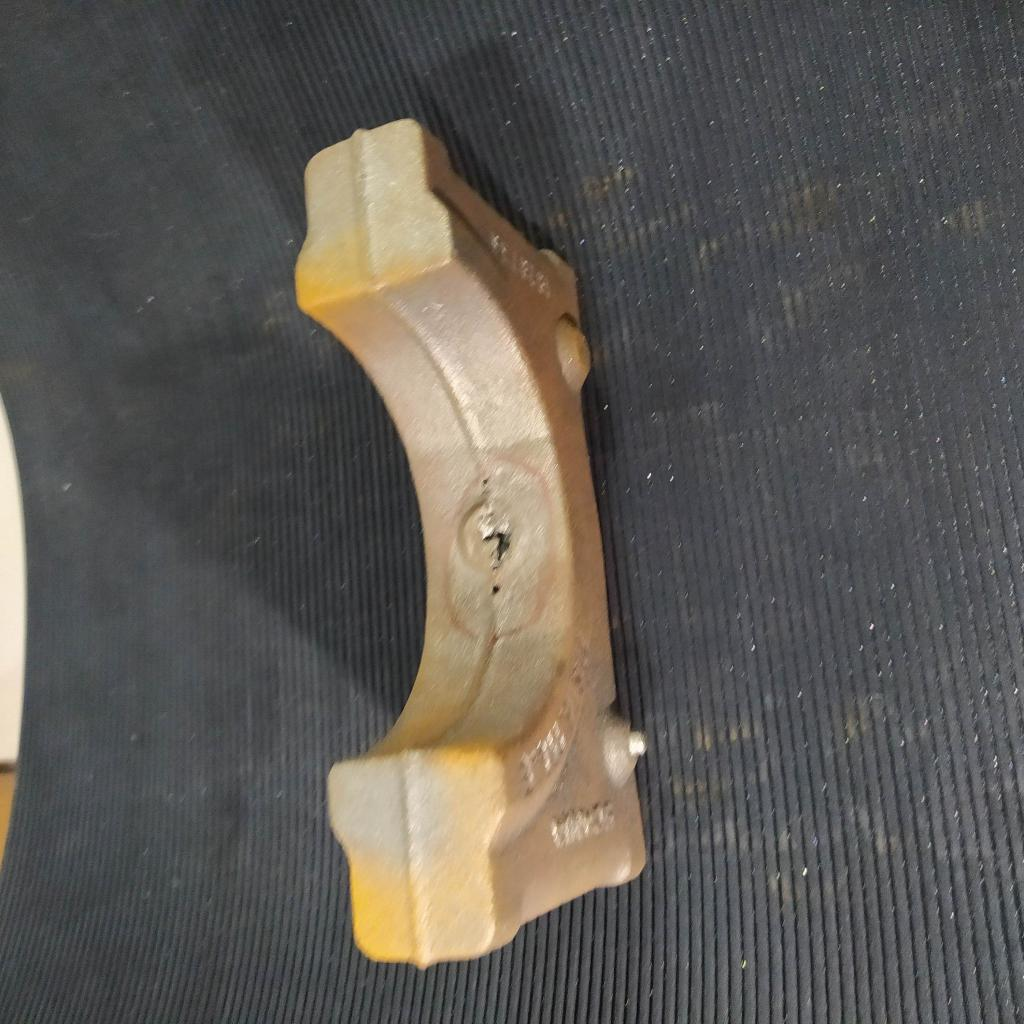buraco: (479, 526, 513, 565), (481, 474, 491, 490), (492, 584, 502, 599)
